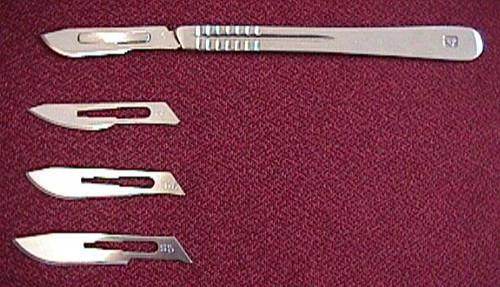Knife handle: (79, 26, 483, 65)
Surgical blade: (11, 232, 208, 269), (20, 164, 191, 200), (25, 98, 185, 130), (34, 26, 183, 60)
